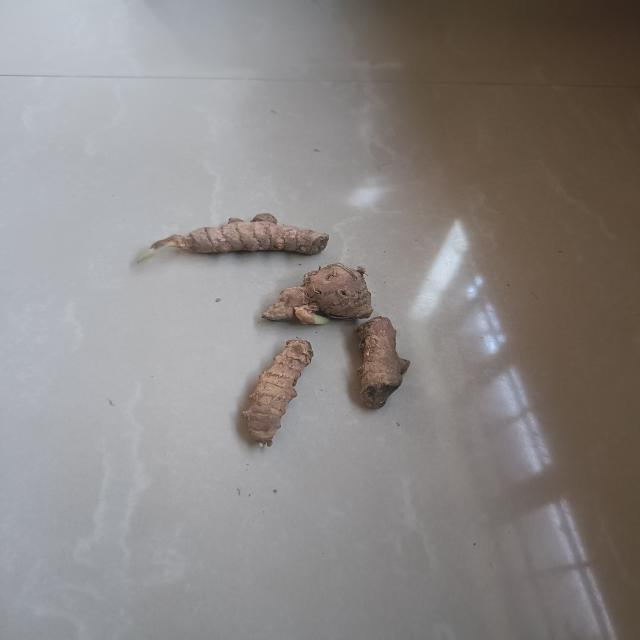ginger: (144, 206, 334, 258), (233, 336, 315, 449), (257, 260, 378, 323), (351, 316, 413, 412)
